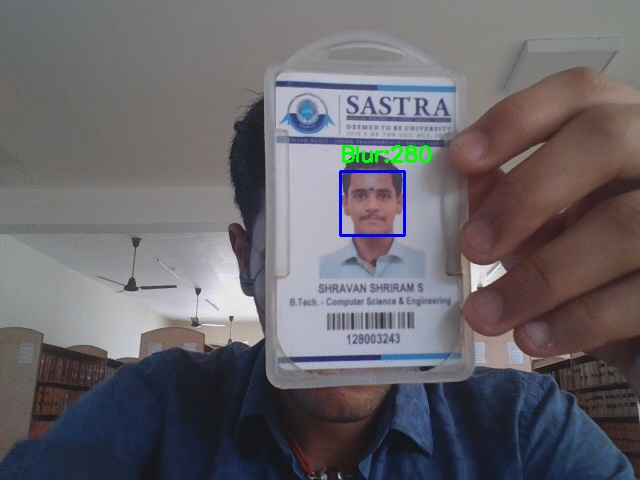fake: (340, 171, 404, 235)
